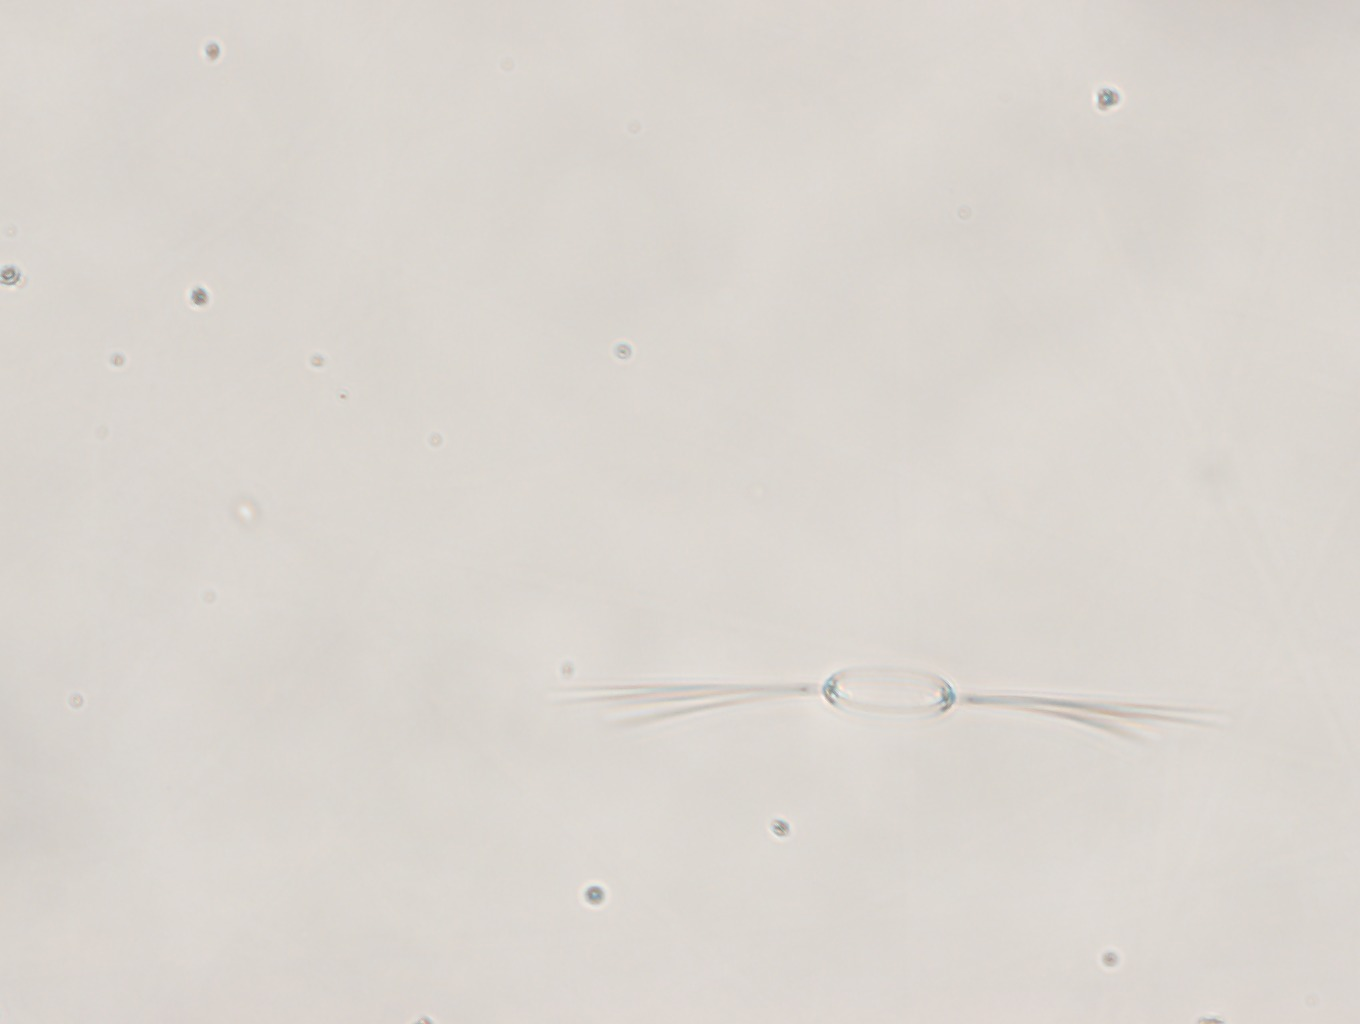chaetoceros: (561, 651, 1234, 773)
